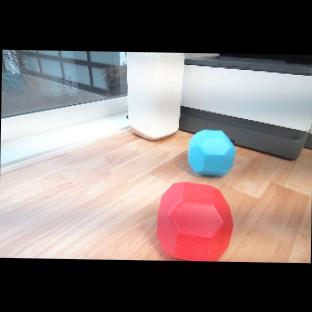V5_BLUE: (188, 128, 237, 177)
V5_RED: (154, 181, 234, 261)
